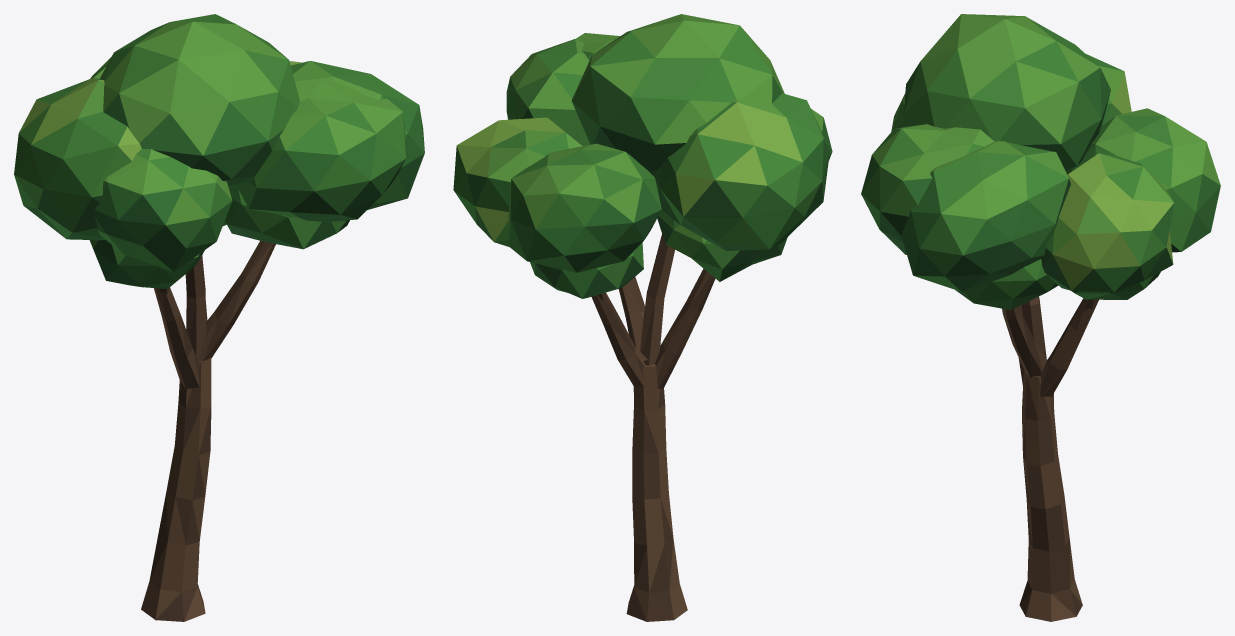
The model's file is city-tree-tall-1.glb.
3 renders of one model, left to right at view 1: azimuth 30°, elevation 25°; view 2: azimuth 150°, elevation 25°; view 3: azimuth 270°, elevation 25°, orthographic. The views are drawn at different scales.
Parts seen in each view (by area): view 1: CityTreeTall1; view 2: CityTreeTall1; view 3: CityTreeTall1.
Part boxes in pixels (box(x1,y1,x2,y2)): CityTreeTall1: box(14, 14, 424, 621); CityTreeTall1: box(453, 14, 832, 621); CityTreeTall1: box(861, 14, 1220, 621).
Bounding box in the file's own units: 8 × 12.97 × 7.21.
